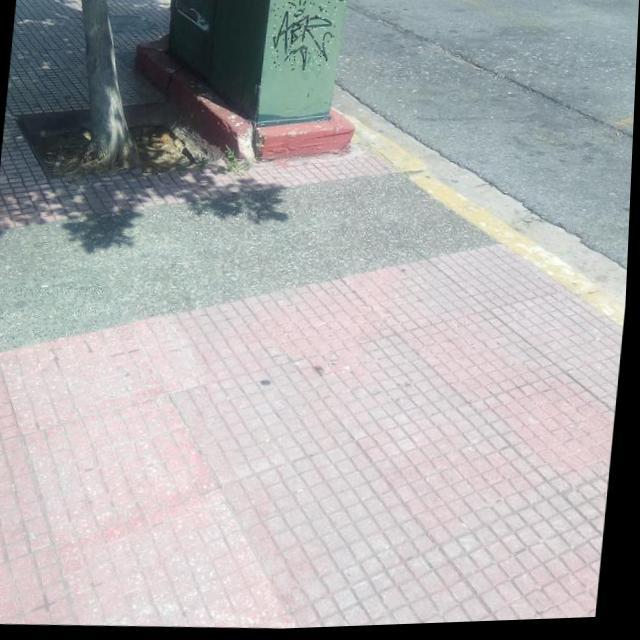-: (268, 0, 338, 77), (278, 0, 349, 7)
